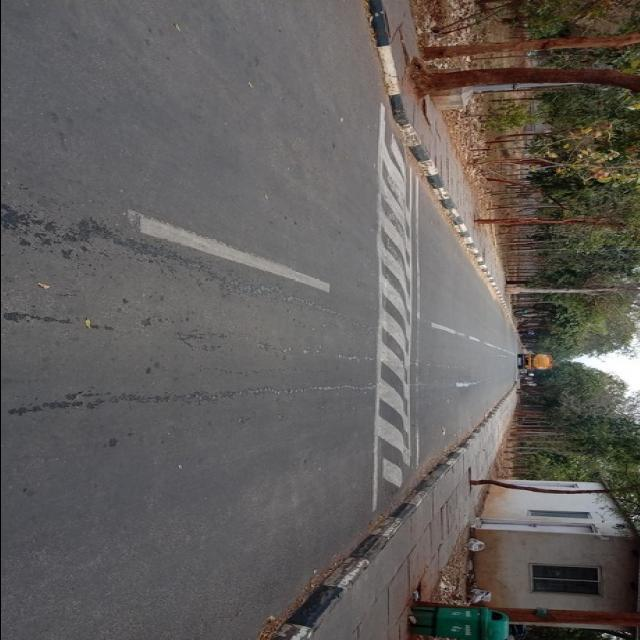speedbreaker: (368, 149, 422, 505)
